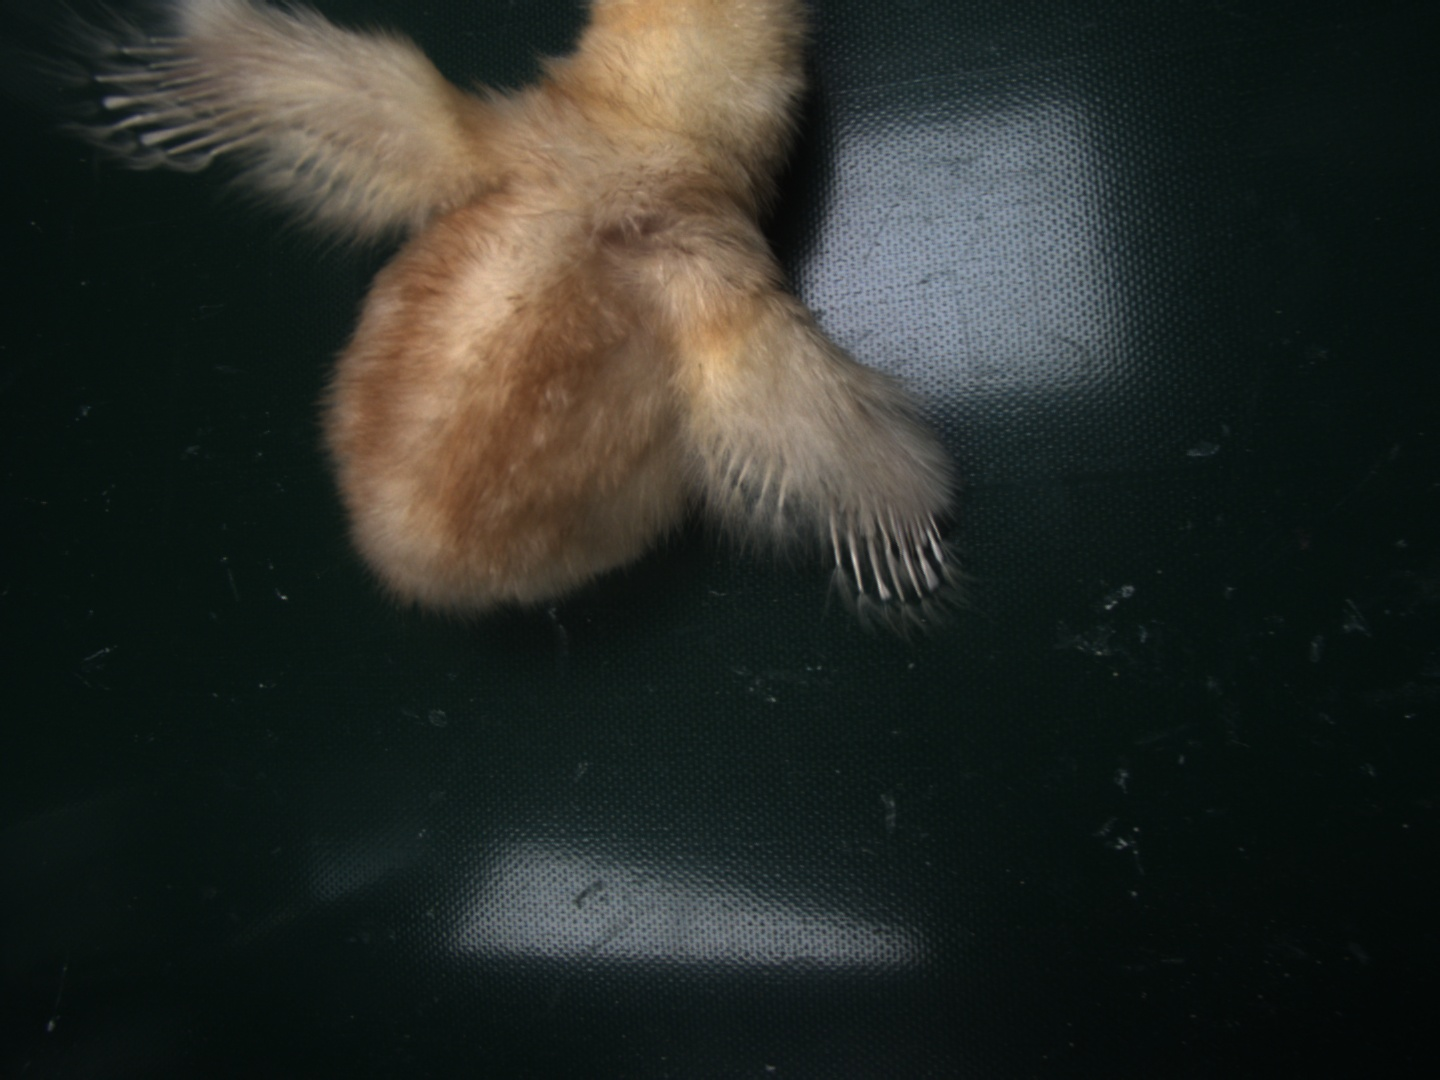female: (88, 36, 257, 158), (830, 501, 947, 601)
